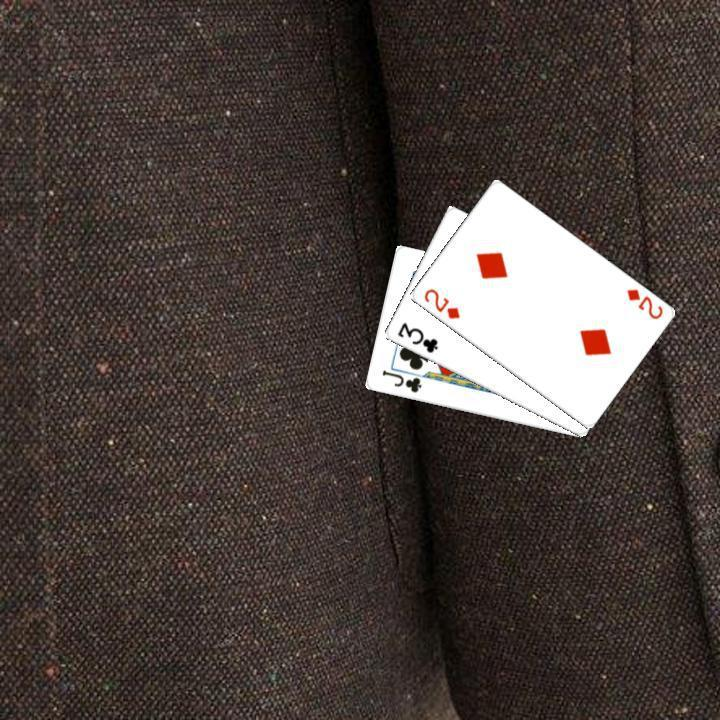2: (419, 284, 462, 321), (622, 284, 665, 321)
3: (392, 318, 440, 355)
J: (377, 366, 423, 395)
